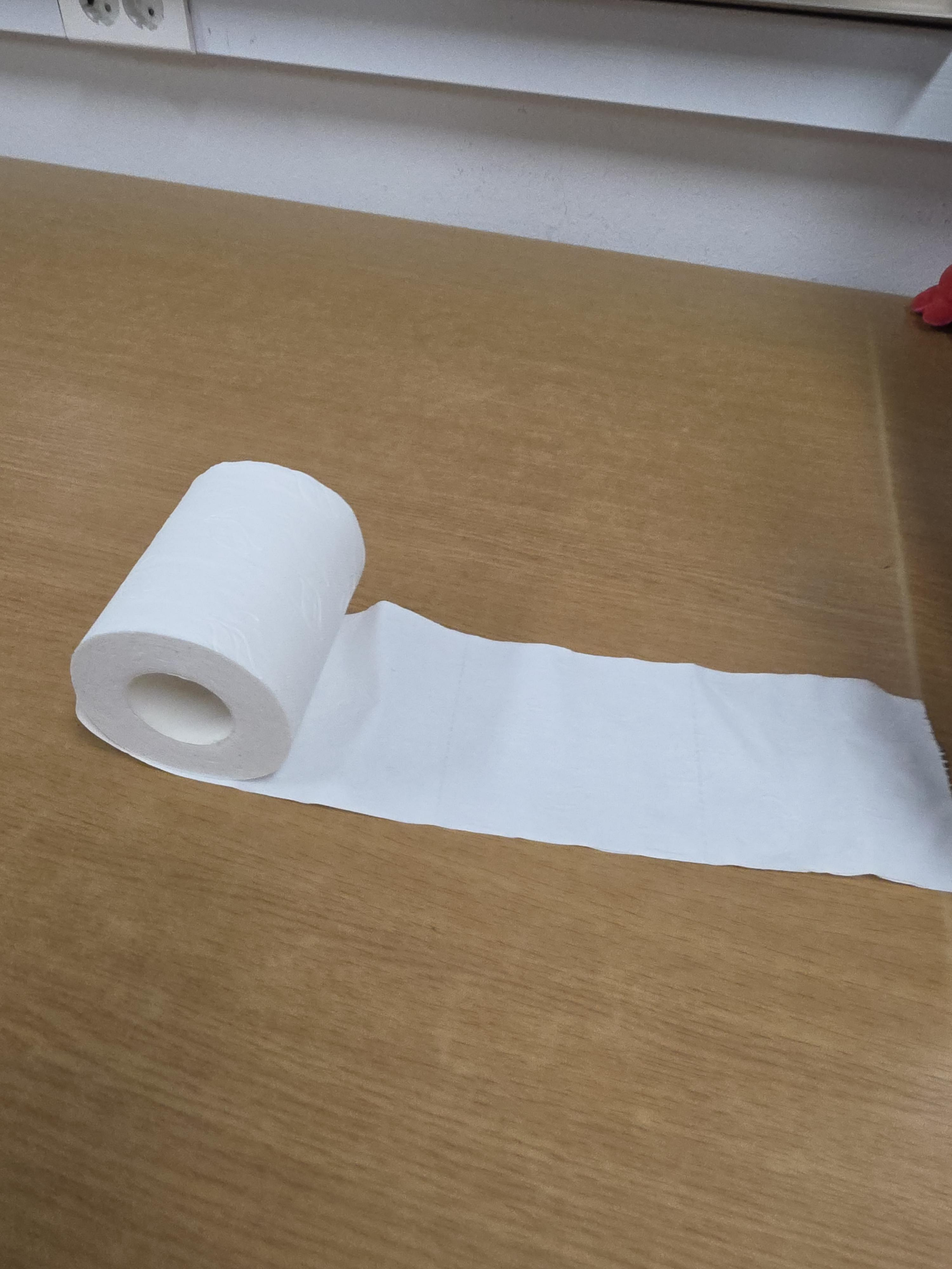tissue: (69, 460, 951, 893)
